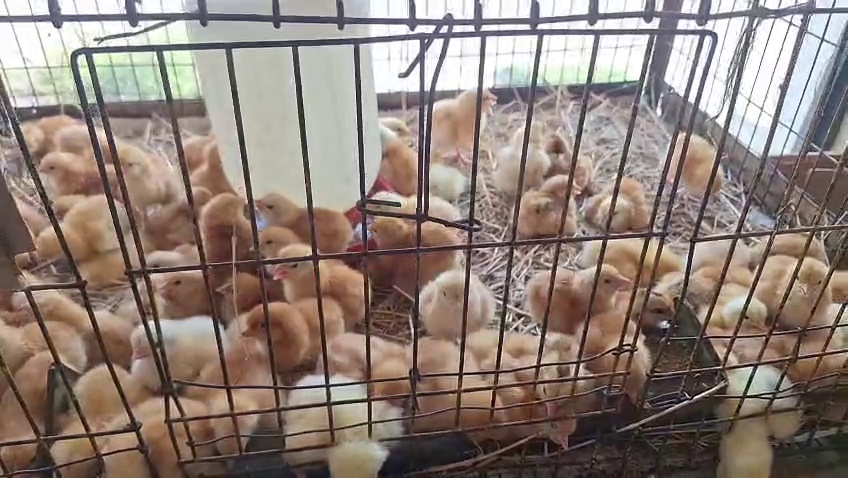Pollo: (269, 376, 424, 478), (177, 343, 296, 463), (694, 363, 814, 478), (394, 341, 513, 434), (100, 392, 220, 478), (47, 363, 133, 478), (260, 233, 380, 310), (305, 326, 425, 403), (562, 213, 682, 290), (347, 155, 467, 232), (113, 315, 233, 392), (0, 299, 120, 376), (23, 282, 143, 359), (235, 296, 354, 373), (515, 256, 634, 333), (260, 161, 379, 238), (0, 344, 67, 478), (27, 192, 135, 269), (405, 260, 505, 337), (574, 315, 656, 408), (29, 133, 116, 210), (517, 330, 592, 419), (655, 124, 740, 201), (190, 188, 274, 265), (753, 256, 838, 332), (505, 176, 604, 241), (101, 137, 184, 214), (510, 390, 600, 454), (362, 123, 432, 200), (431, 79, 500, 156), (580, 169, 654, 237), (607, 287, 696, 343), (492, 119, 549, 196), (145, 257, 214, 318), (207, 256, 264, 321), (709, 281, 768, 343), (541, 130, 598, 188), (139, 233, 209, 278), (366, 82, 419, 134)
